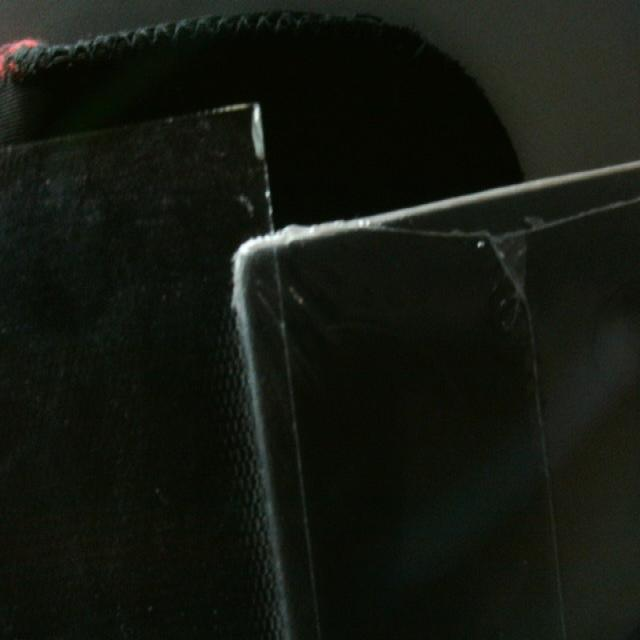edge_chip: (246, 98, 272, 167)
